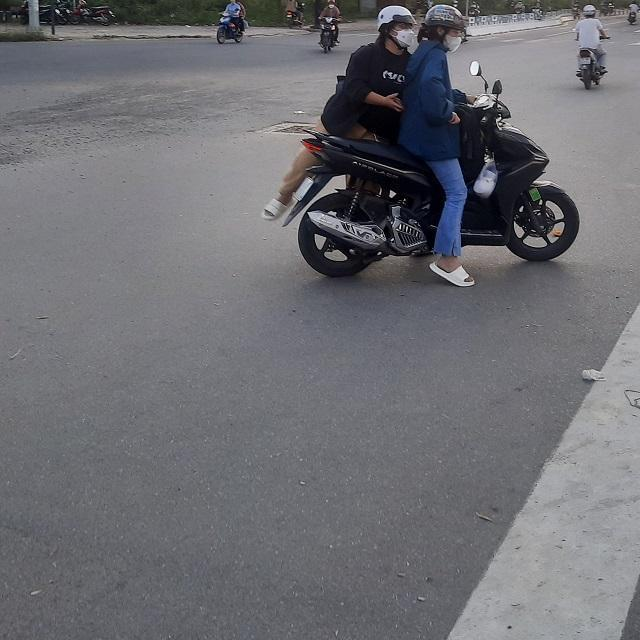Helmet: (424, 6, 466, 54), (374, 5, 416, 51)
